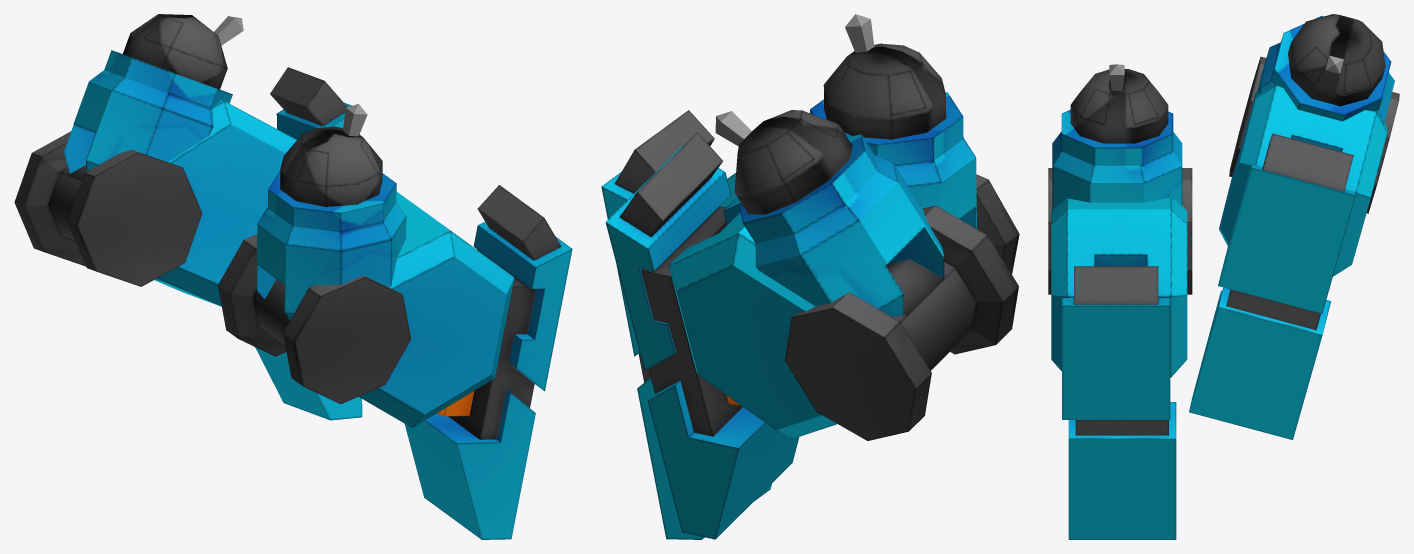
Rendered from Bottom_Running27.obj.
3 renders of one model, left to right at view 1: azimuth 30°, elevation 25°; view 2: azimuth 150°, elevation 25°; view 3: azimuth 270°, elevation 25°, orthographic. The views are drawn at different scales.
Visible parts, largest first — view 1: Object013, Object010, Object014, Object012, Object009, Object011; view 2: Object010, Object011, Object009, Object012, Object014, Object013, Bone023, Bone006; view 3: Object011, Object014, Object012, Object013, Object010, Object009.
Part boxes in pixels (bbox=[...]): Object013: bbox=[218, 192, 514, 427]; Object010: bbox=[14, 100, 296, 306]; Object014: bbox=[404, 185, 572, 539]; Object012: bbox=[257, 126, 406, 320]; Object009: bbox=[63, 14, 232, 173]; Object011: bbox=[255, 67, 362, 420]; Object010: bbox=[668, 197, 1018, 440]; Object011: bbox=[605, 132, 799, 539]; Object009: bbox=[734, 110, 944, 316]; Object012: bbox=[810, 43, 976, 228]; Object014: bbox=[601, 110, 771, 539]; Object013: bbox=[720, 173, 1019, 273]; Bone023: bbox=[845, 14, 874, 52]; Bone006: bbox=[715, 111, 751, 146]; Object011: bbox=[1189, 133, 1355, 439]; Object014: bbox=[1062, 266, 1176, 539]; Object012: bbox=[1052, 69, 1182, 209]; Object013: bbox=[1048, 168, 1192, 377]; Object010: bbox=[1219, 56, 1399, 276]; Object009: bbox=[1257, 14, 1394, 124].
Bounding box in the file's own units: 111 × 125 × 92.08.
